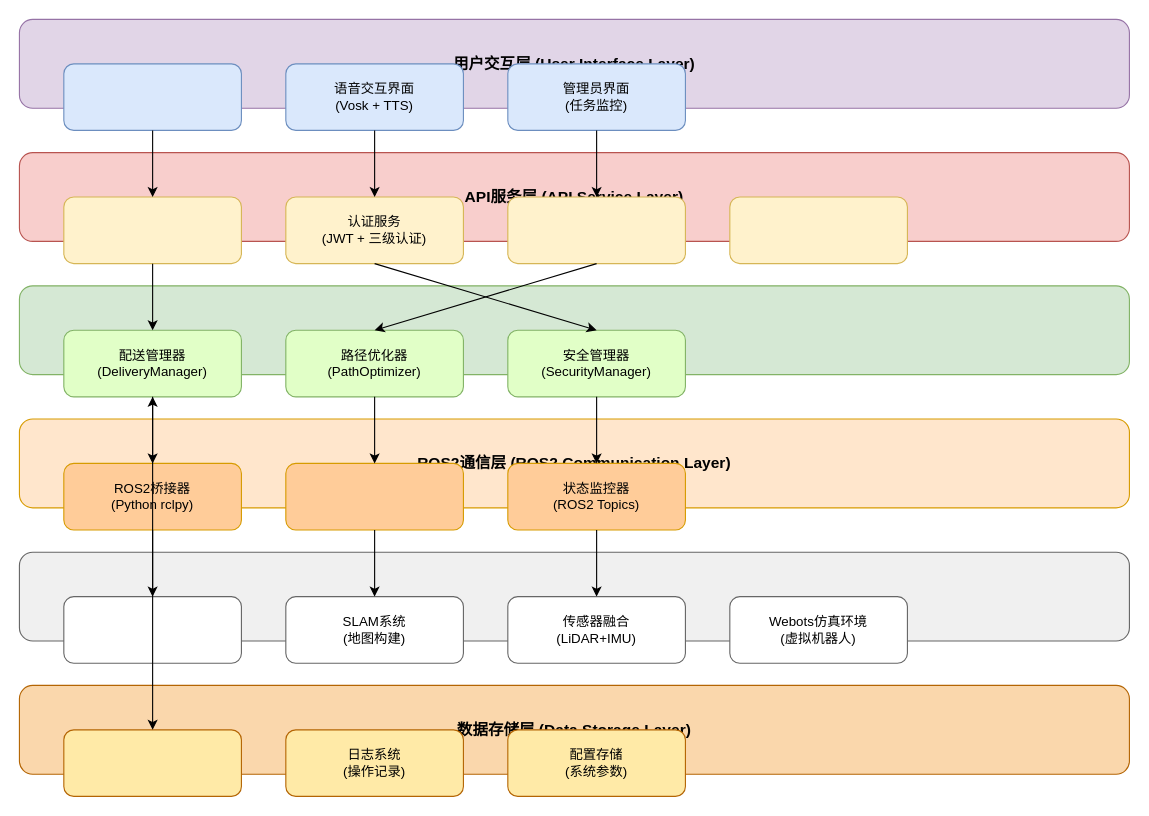
The diagram is 1149 pixels wide and 816 high, and some of its shapes have lost their labels. The box of each missing label's shape, as (x1, y1, x2, y2) in pixels:
FastAPI服务 (REST API): (63, 196, 241, 264)
Nav2导航栈 (路径规划+定位): (63, 596, 241, 663)
SQLite数据库 (任务+用户数据): (63, 729, 241, 796)
WebSocket服务 (实时通信): (729, 196, 907, 264)
Web前端界面 (Vue.js + TypeScript): (63, 63, 241, 130)
业务逻辑层 (Business Logic Layer): (18, 285, 1129, 375)
任务管理服务 (调度 + 队列): (507, 196, 685, 264)
导航控制器 (Nav2集成): (285, 462, 463, 530)
机器人控制层 (Robot Control Layer): (18, 551, 1129, 641)
